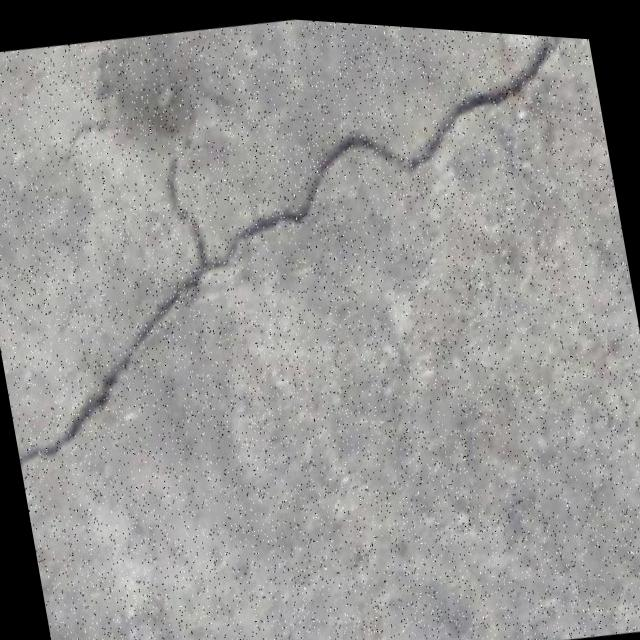Crack: (0, 0, 640, 505)
